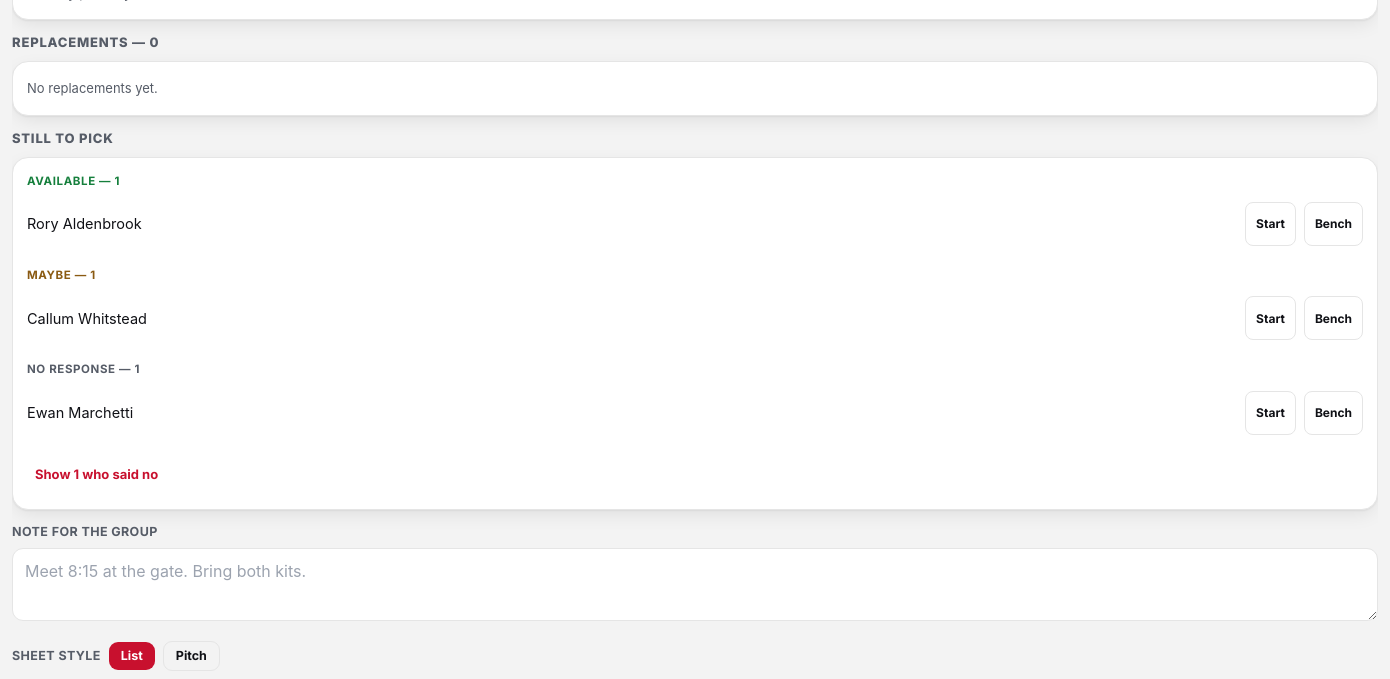
Test: picking › flags a picked player who did NOT say they were available
(page scrolled)
Expected: the text "Available — 1" is shown, [27,174,120,188]
Click the button "Show 1 who said no" at (97, 475), box [27,453,166,497]
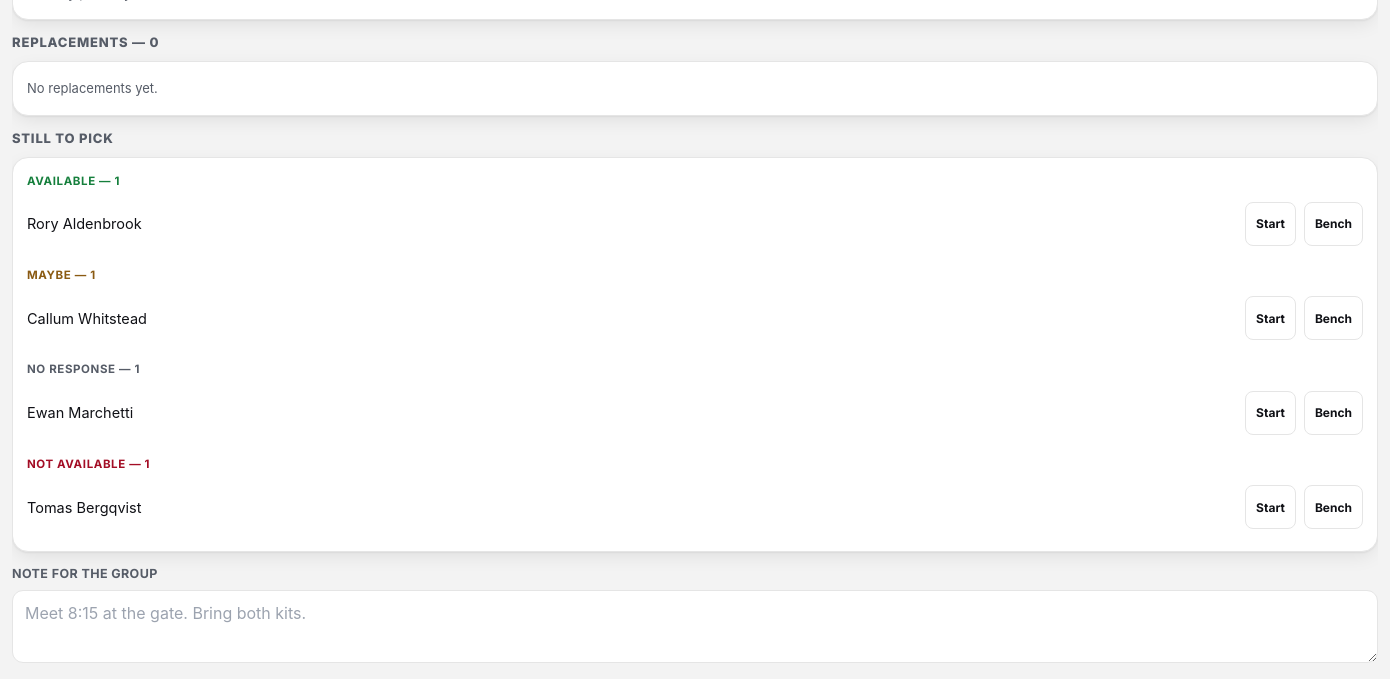
Click the button "Start" in the row of "Tomas Bergqvist" at (1270, 507), box [1245,485,1296,529]
(page scrolled)
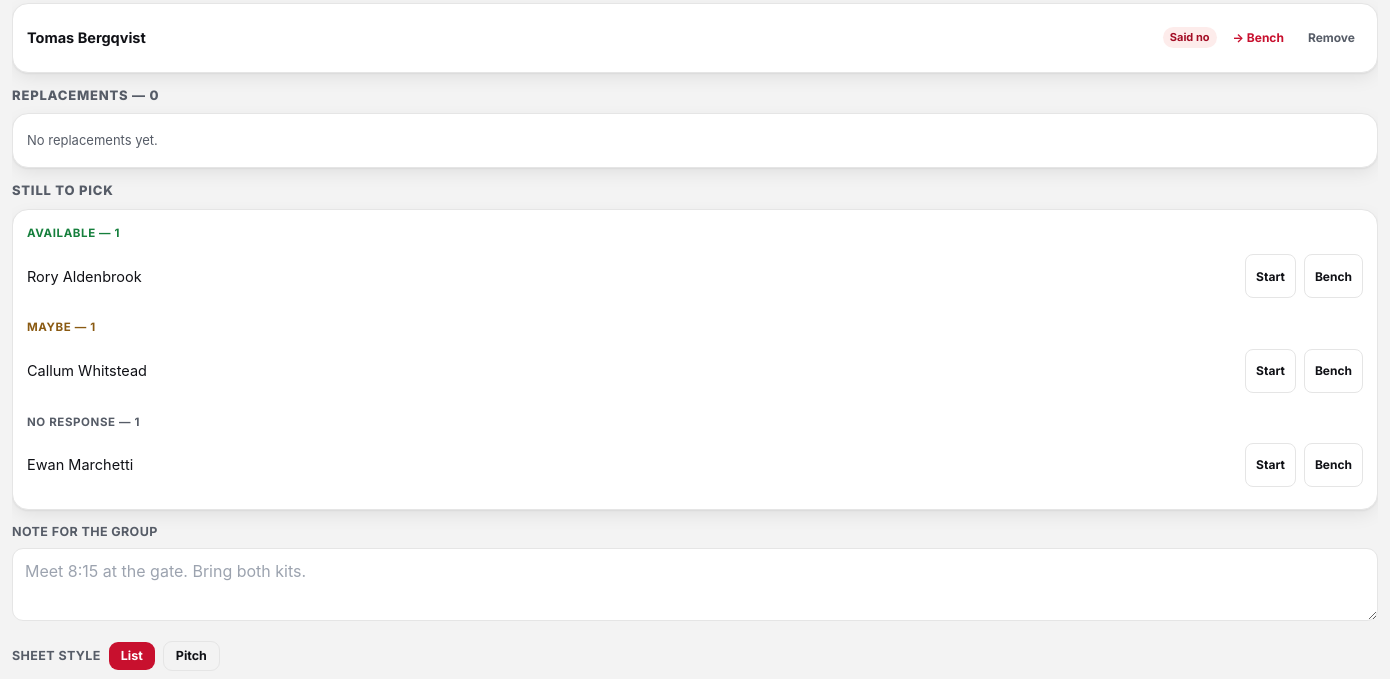
Now the text "Said no" is shown, box [1163,27,1216,48]
